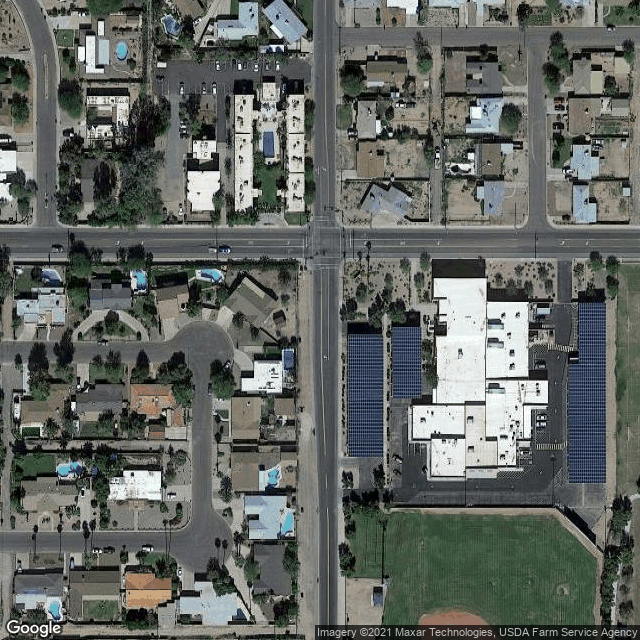carport-fixed: (568, 302, 607, 482), (347, 334, 384, 457), (393, 325, 419, 394)
